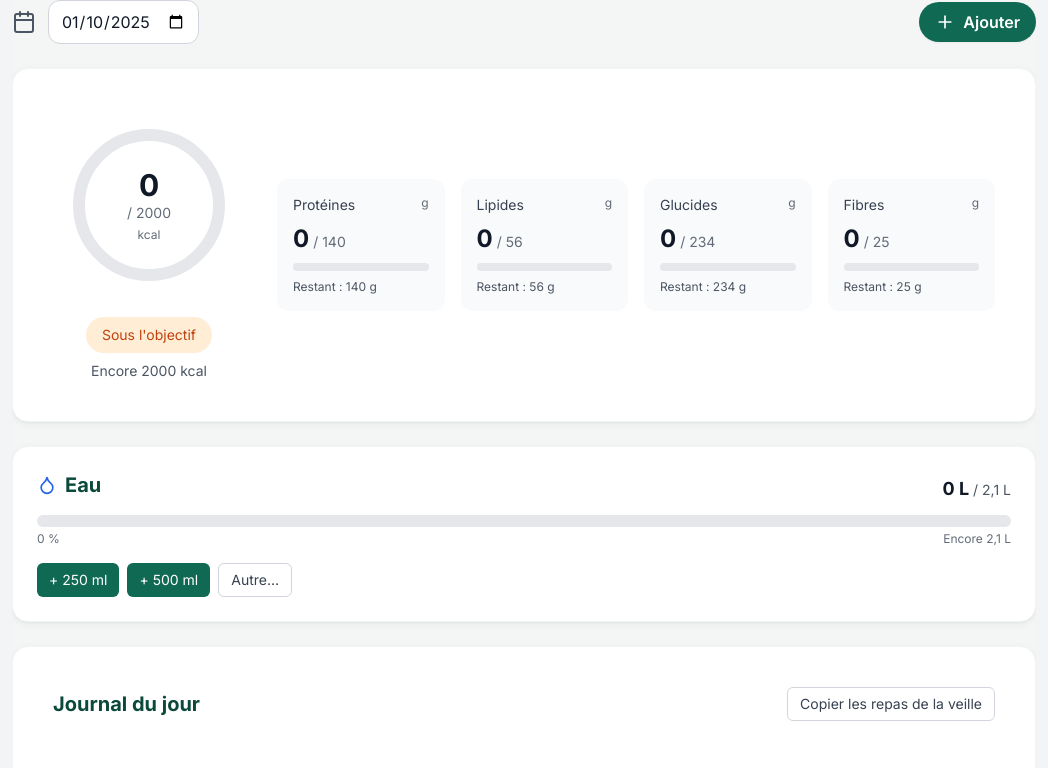
Test: Dashboard › journal › copie les repas de la veille
The image size is (1048, 768).
Click the button "Copier les repas de la veille" at [891, 704], box [787,687,995,721]
(page scrolled)
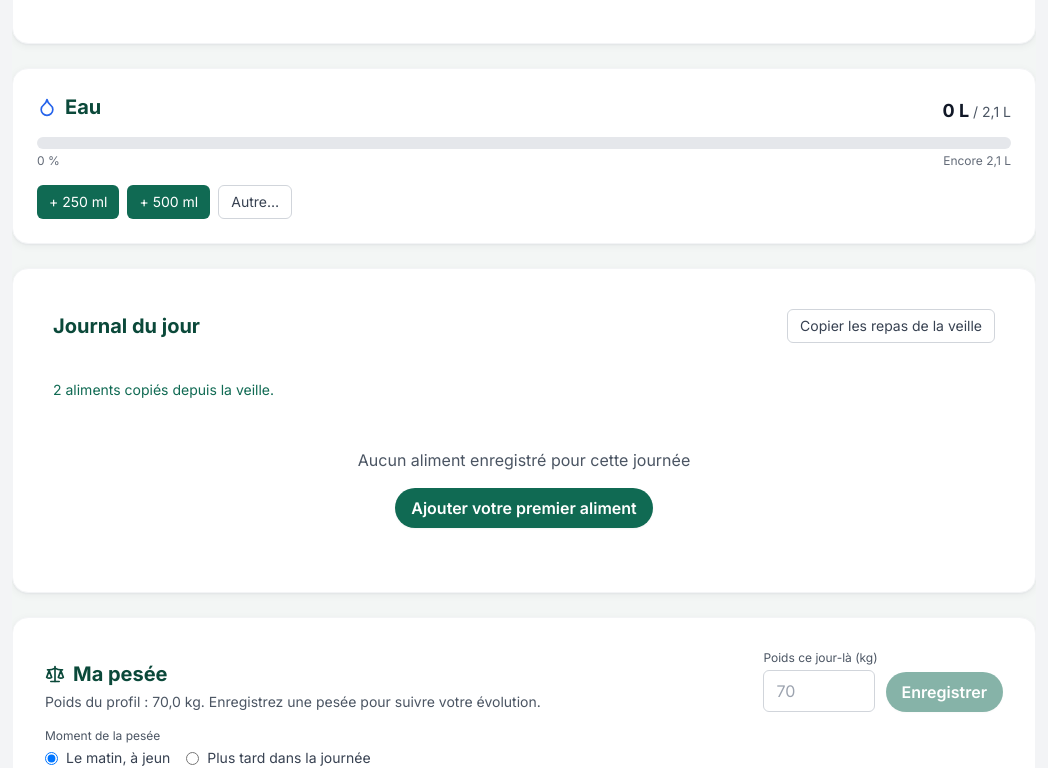
Expected: the text "2 aliments copiés depuis la veille." is shown, [53,381,274,398]
